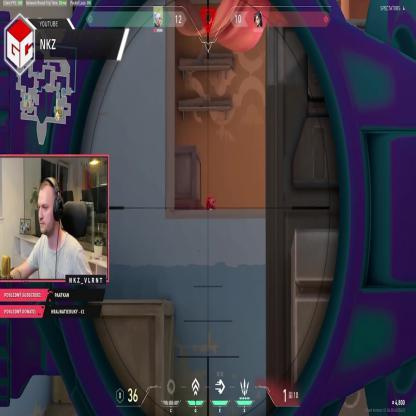enemy: (204, 193, 219, 252)
enemy_head: (208, 195, 214, 209)
